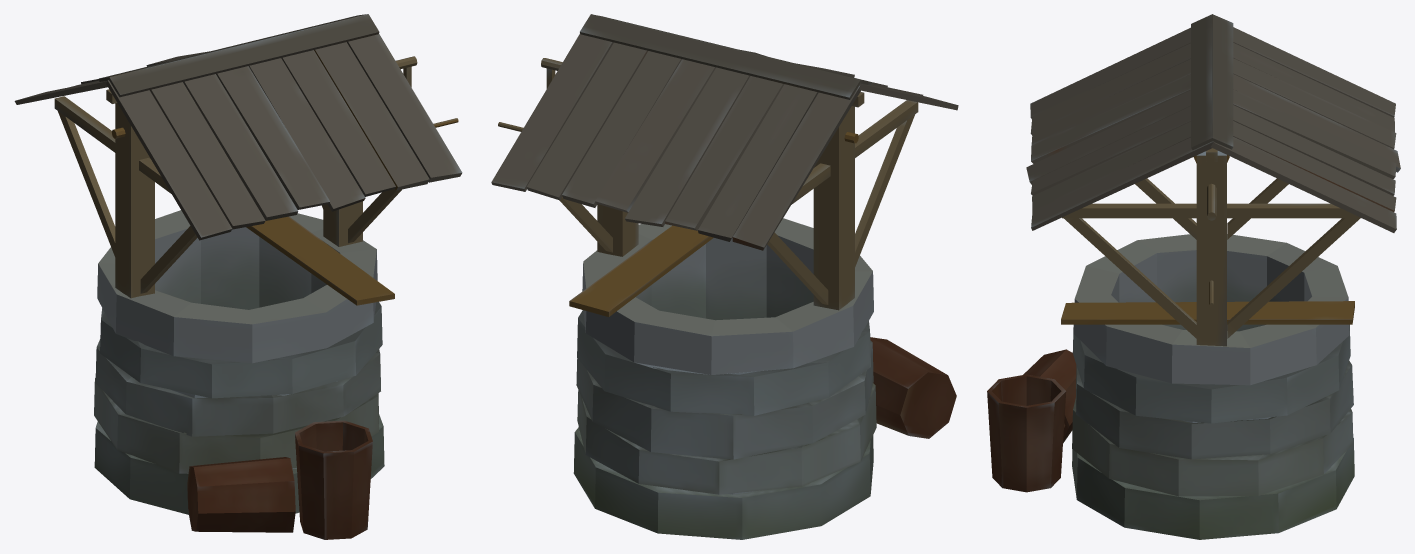
File: well.fbx
3 views of the same model, side by side, from view 1: azimuth 30°, elevation 25°; view 2: azimuth 150°, elevation 25°; view 3: azimuth 270°, elevation 25° (orthographic). The views are drawn at different scales.
Visible parts, largest first — view 1: Well; view 2: Well; view 3: Well.
Part boxes in pixels (<box>): Well: <box>14,14,462,539</box>; Well: <box>491,14,958,539</box>; Well: <box>987,14,1400,539</box>.
Size of the model in its own units: 175 by 197 by 183.
